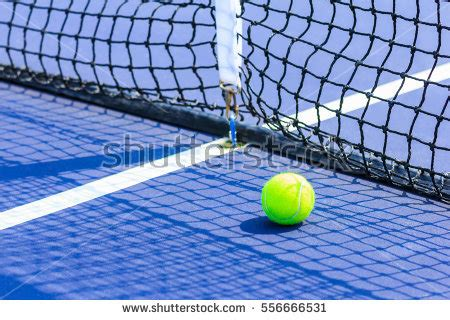tennis_ball: (261, 172, 315, 225)
